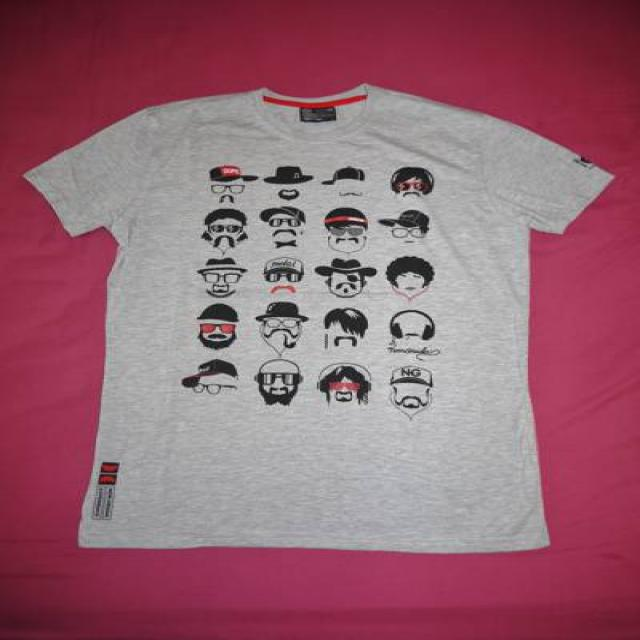Clothes -Biodegradable-: (26, 80, 609, 553)
